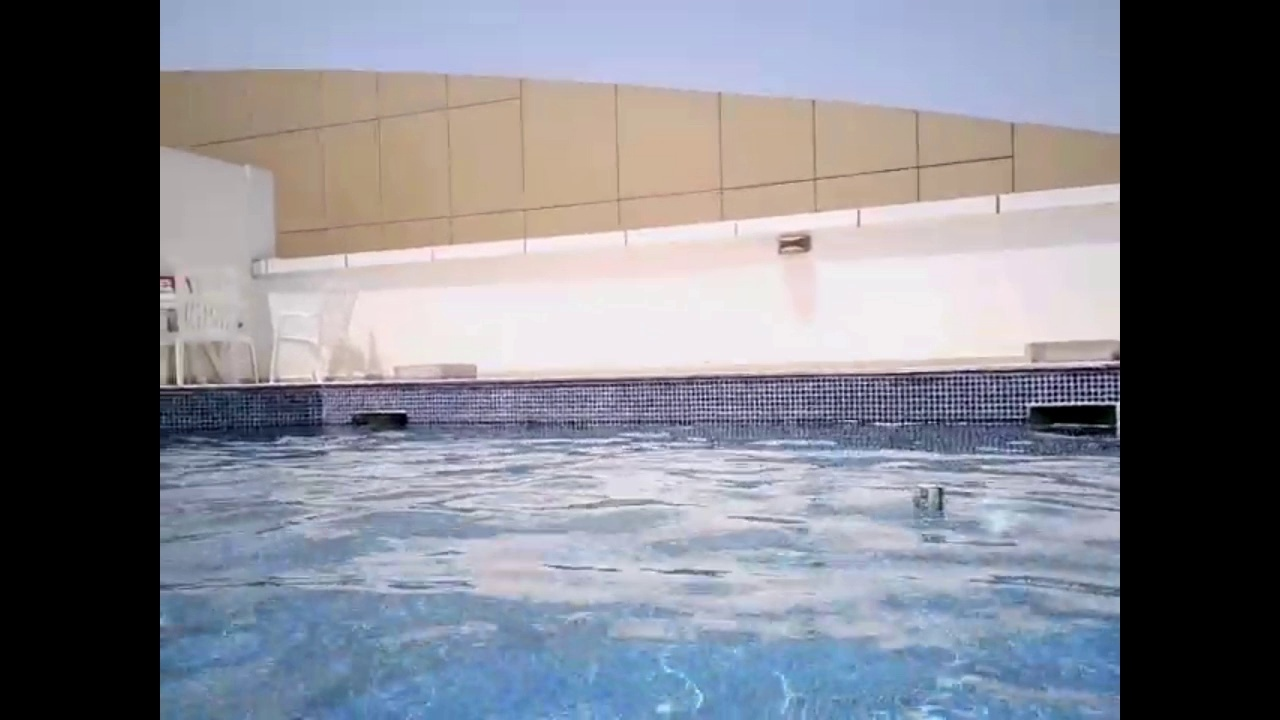debris: (906, 478, 948, 523)
